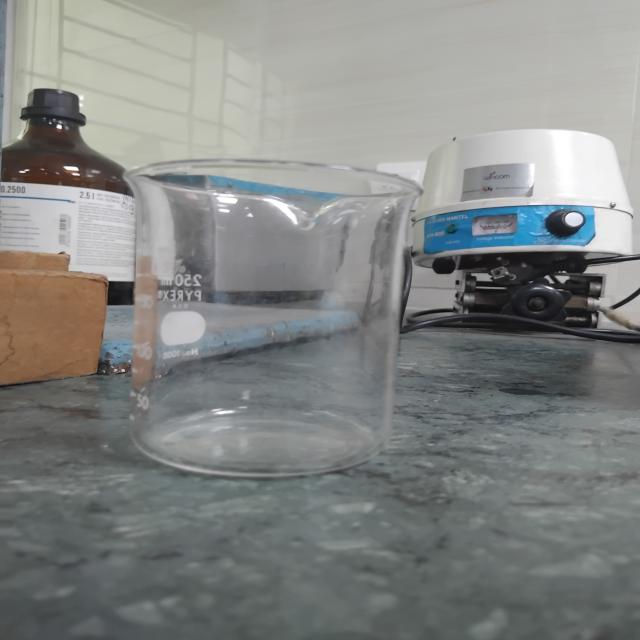Beaker: (88, 135, 472, 501)
